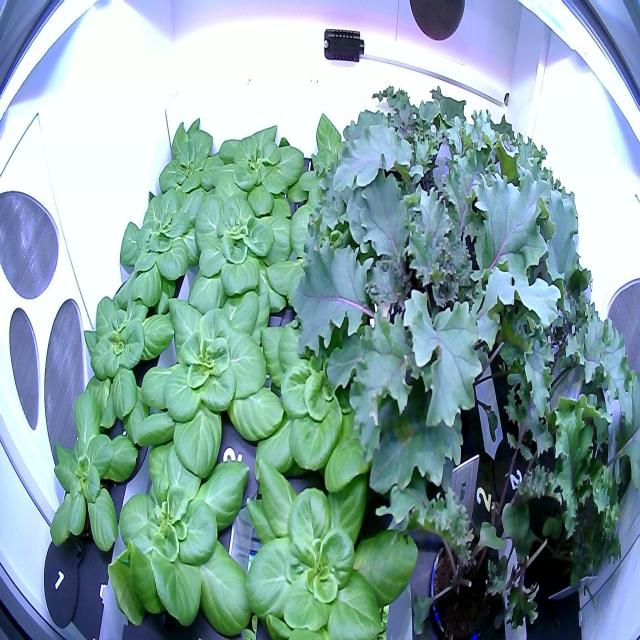young: (228, 438, 420, 638), (243, 300, 412, 503), (104, 420, 259, 640), (129, 278, 286, 482), (41, 376, 143, 560), (183, 173, 296, 324), (74, 264, 178, 427), (263, 190, 382, 320), (112, 173, 207, 316), (205, 112, 308, 224), (293, 100, 377, 223), (153, 100, 228, 216)
